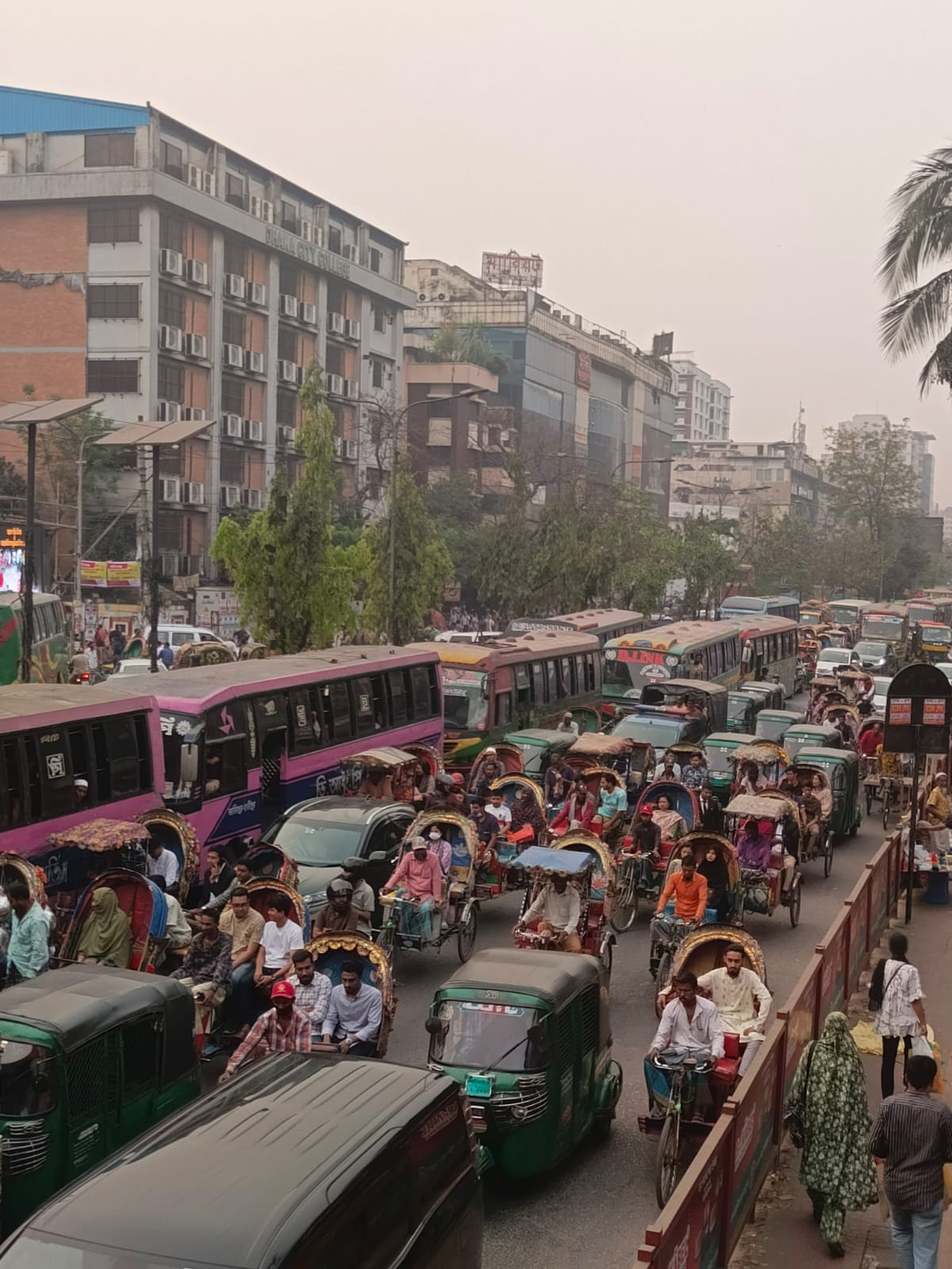Bus: (109, 643, 510, 772), (5, 666, 203, 859), (421, 632, 615, 746), (612, 621, 798, 704)
Police cars: (613, 659, 729, 783)
auto-ricksaw: (405, 732, 819, 974), (637, 917, 797, 1164), (2, 822, 221, 964), (228, 940, 419, 1075), (197, 828, 321, 1013)
cng: (419, 943, 646, 1191), (0, 953, 217, 1163), (789, 724, 883, 853), (708, 727, 785, 814), (735, 693, 803, 766), (735, 681, 802, 718)
private car: (0, 1038, 493, 1269), (0, 1076, 486, 1267), (275, 767, 416, 925), (812, 632, 874, 694)
